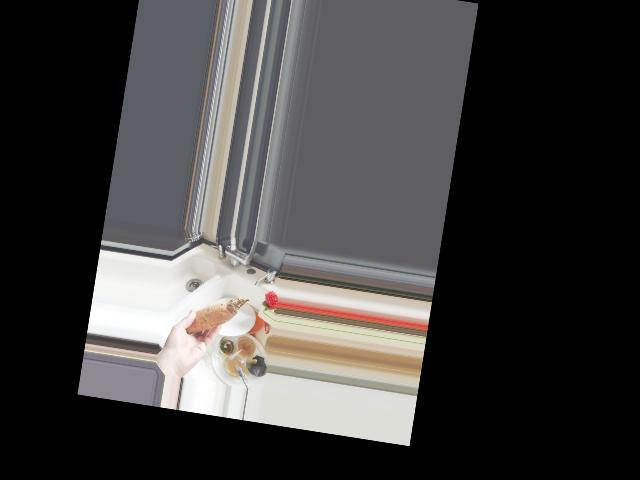sweet_potato: (180, 288, 251, 345)
